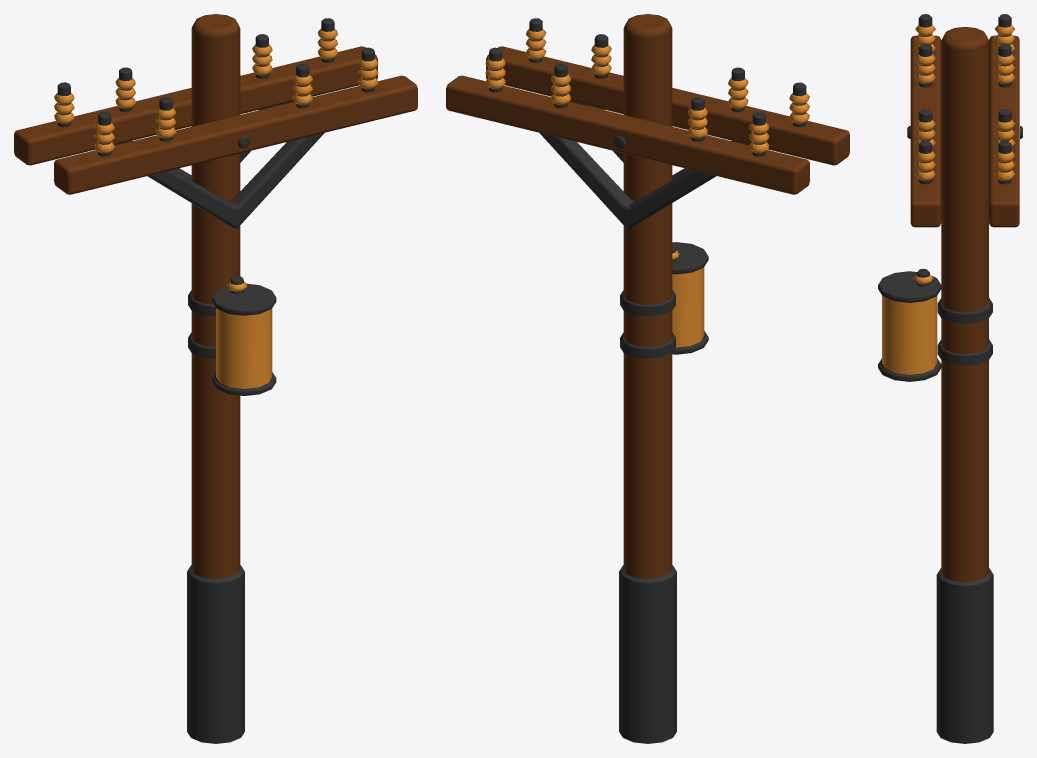
File: electric-pole-01.glb
3 renders of one model, left to right at view 1: azimuth 30°, elevation 25°; view 2: azimuth 150°, elevation 25°; view 3: azimuth 270°, elevation 25°, orthographic.
Visible parts, largest first — view 1: Electric_Pole_01; view 2: Electric_Pole_01; view 3: Electric_Pole_01.
Part boxes in pixels (x1=…): Electric_Pole_01: x1=14, y1=14, x2=417, y2=743; Electric_Pole_01: x1=446, y1=14, x2=849, y2=743; Electric_Pole_01: x1=878, y1=14, x2=1022, y2=743.
Bounding box in the file's own units: 4.67 × 9.01 × 1.7.
1 material, 1 textured.
